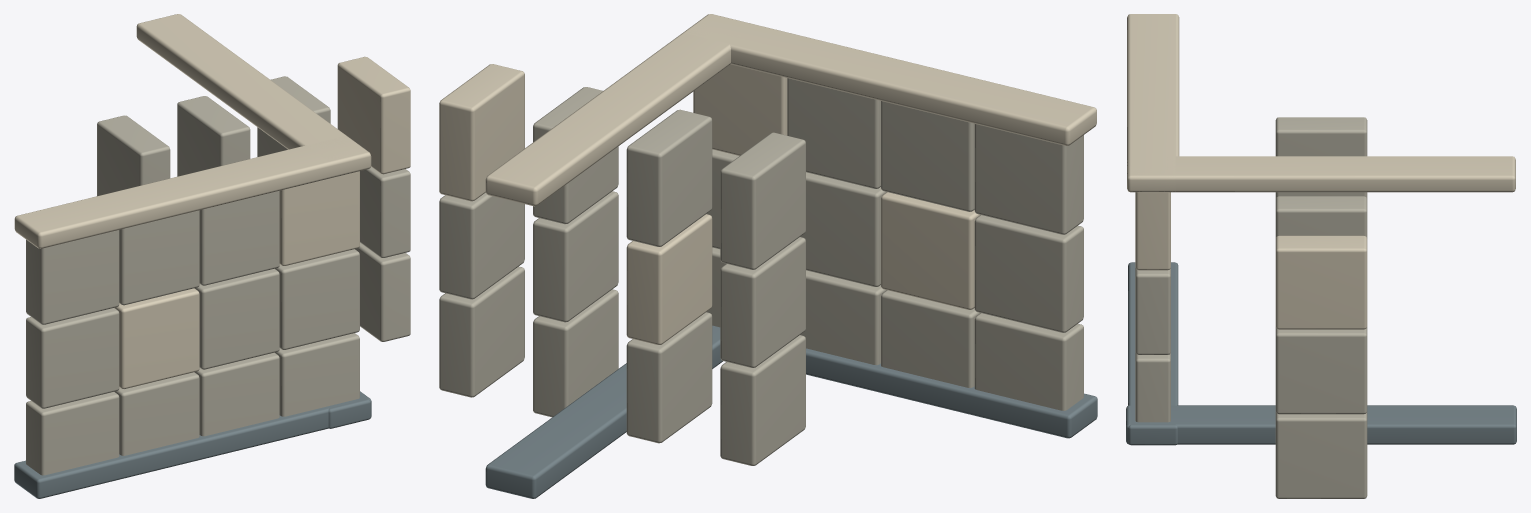
The model's file is SM_Wall_Corner_Stone_4m.fbx.
3 renders of one model, left to right at view 1: azimuth 30°, elevation 25°; view 2: azimuth 150°, elevation 25°; view 3: azimuth 270°, elevation 25°, orthographic. The views are drawn at different scales.
Visible parts, largest first — view 1: SM_Wall_Corner_Stone_4m; view 2: SM_Wall_Corner_Stone_4m; view 3: SM_Wall_Corner_Stone_4m.
Boxes of the visible parts, x1=… form: SM_Wall_Corner_Stone_4m: x1=14, y1=14, x2=410, y2=498; SM_Wall_Corner_Stone_4m: x1=439, y1=14, x2=1097, y2=498; SM_Wall_Corner_Stone_4m: x1=1126, y1=14, x2=1516, y2=498.
Size of the model in its own units: 5.58 by 3.18 by 4.18.
